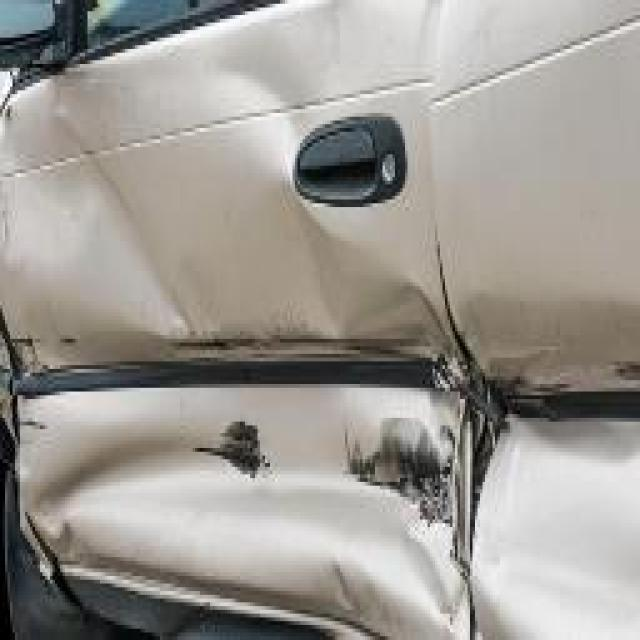Door: (8, 34, 428, 640), (455, 267, 640, 617)
